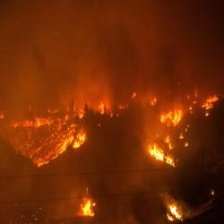fire: (11, 102, 106, 168), (144, 100, 191, 171), (69, 191, 102, 221), (156, 196, 190, 224)
